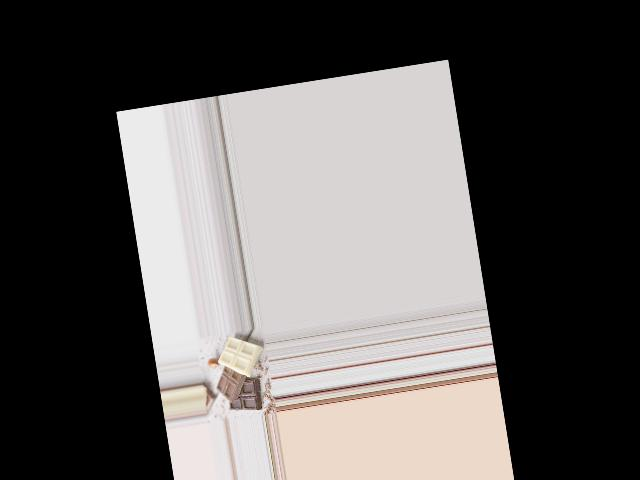chocolate: (208, 333, 268, 419)
